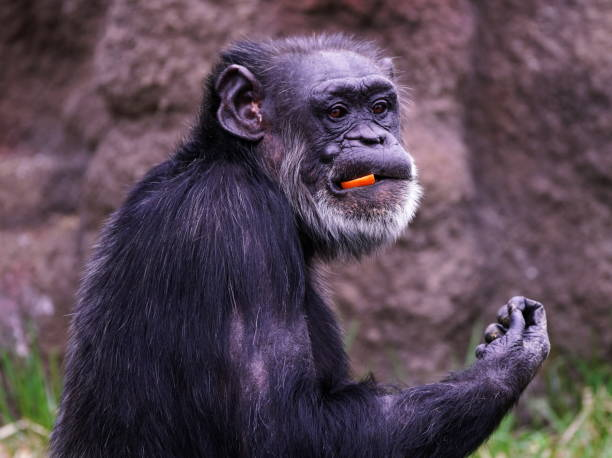chimpanzee: (165, 19, 475, 309)
